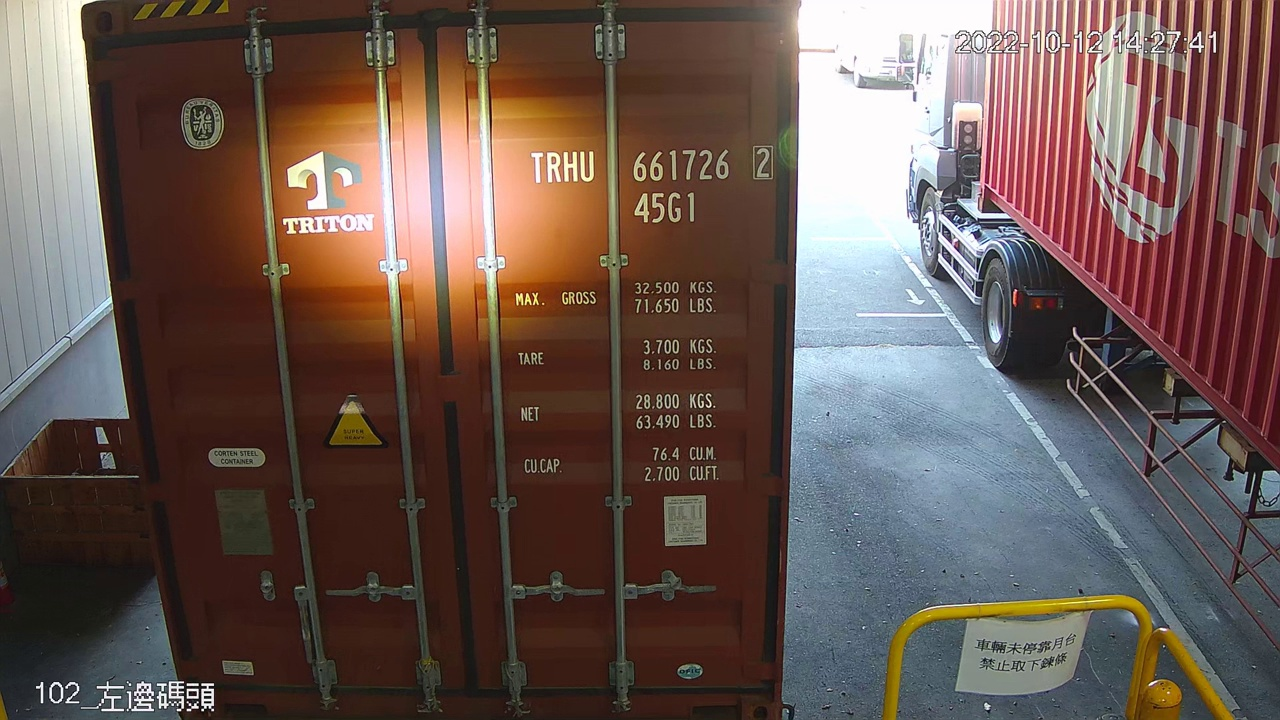container: (520, 140, 781, 234)
